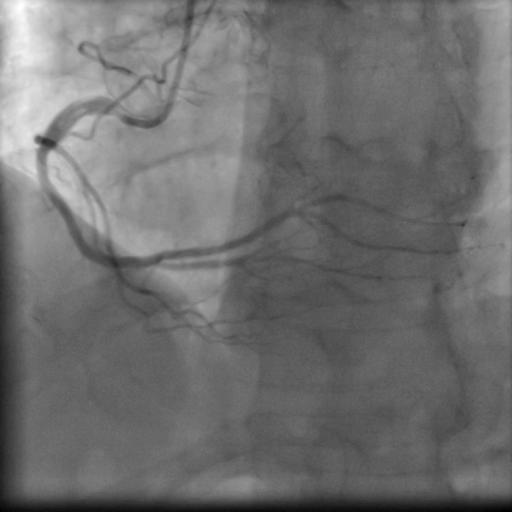Stenosis: (29, 145, 52, 170)
